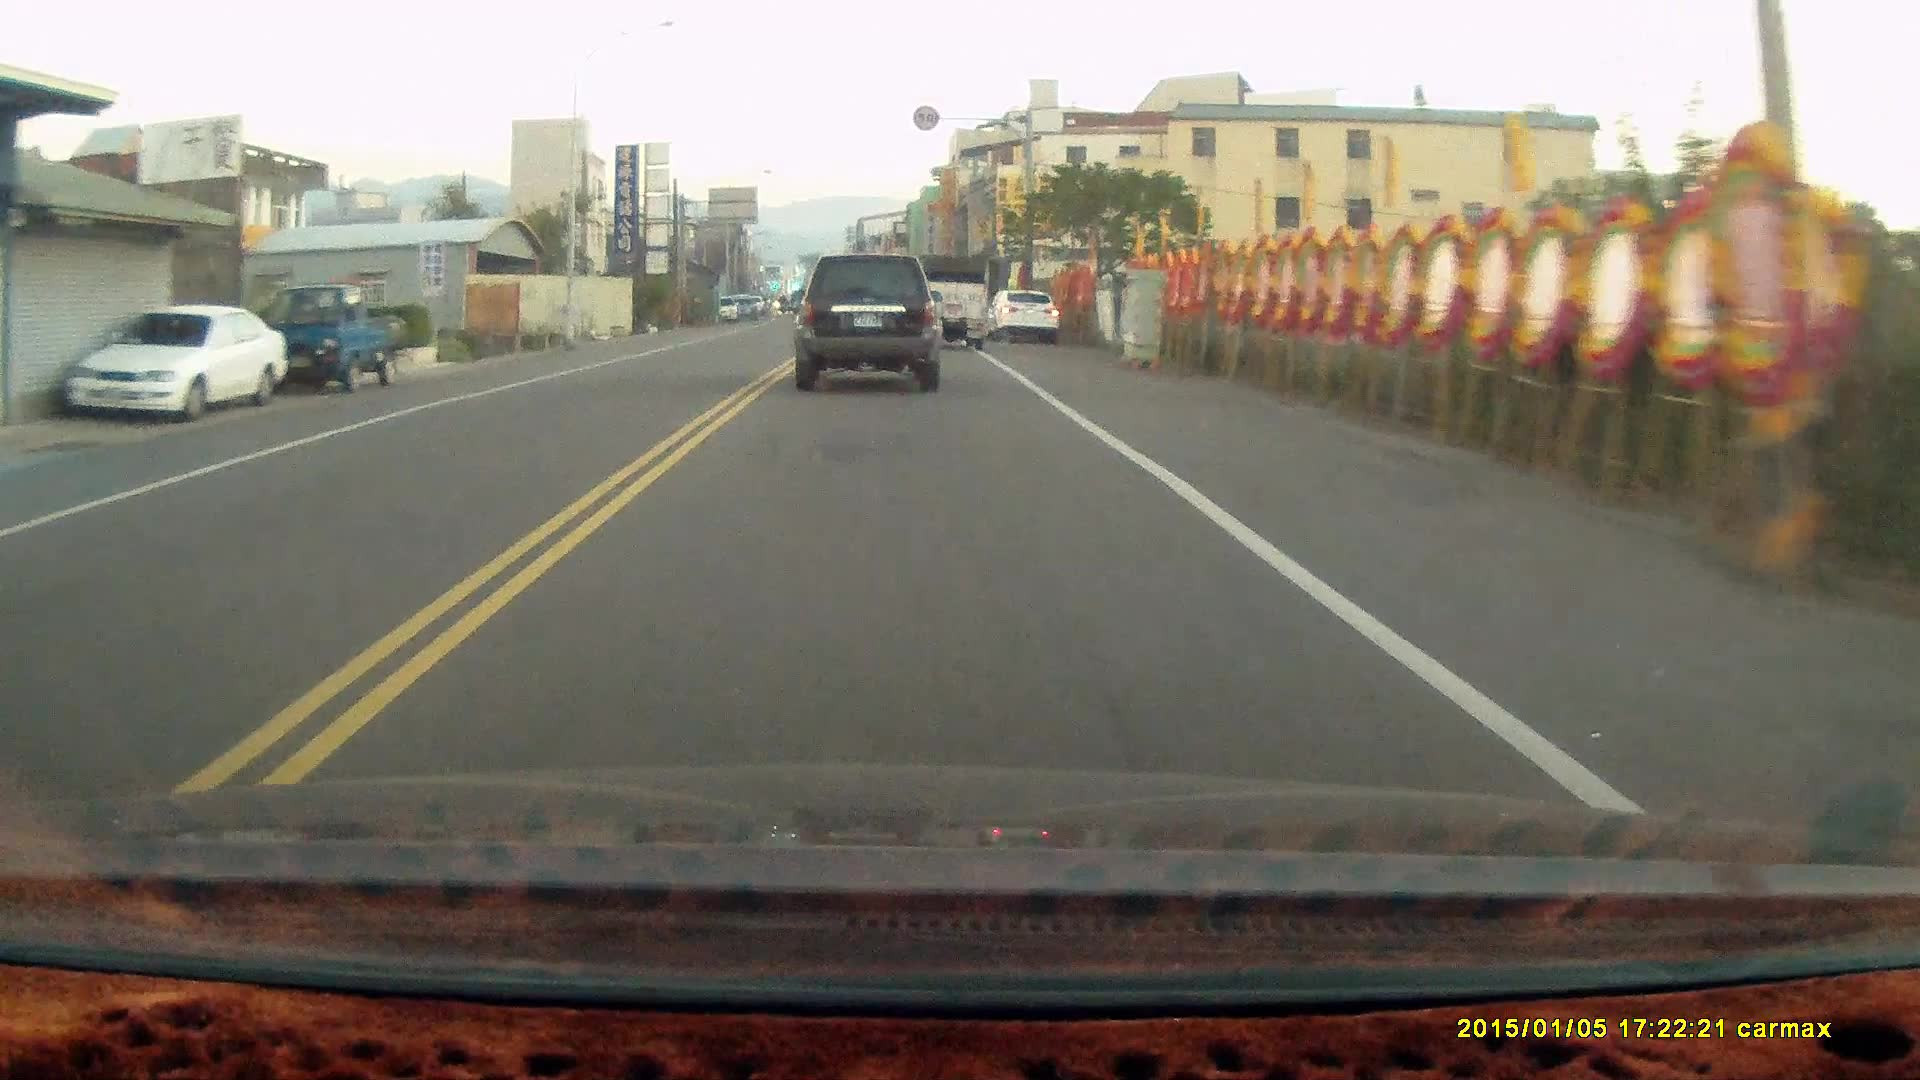vehicle: (65, 306, 285, 419), (796, 255, 945, 396), (251, 285, 415, 398), (915, 252, 993, 353), (994, 286, 1062, 345)
